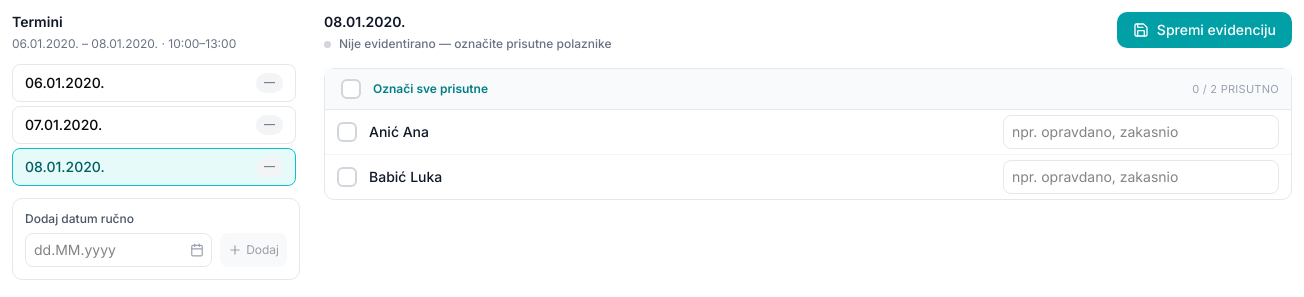
AttendanceMarker — mark all › fills the whole roster in one click and flips to the clear label
Click the checkbox labelled "Označi sve prisutne": (414, 89) [337,75,492,103]
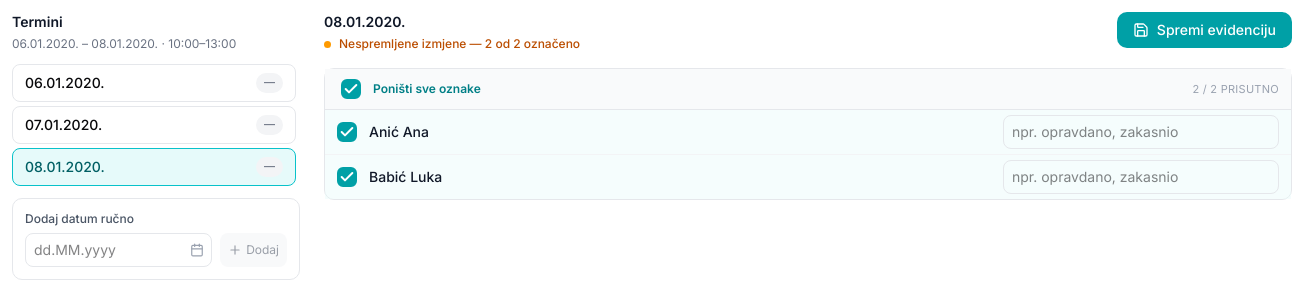
Now the text "2 / 2 prisutno" is shown, box [1192,81,1279,97]
Now the checkbox labelled "Poništi sve oznake" is shown, box [337,75,485,103]
